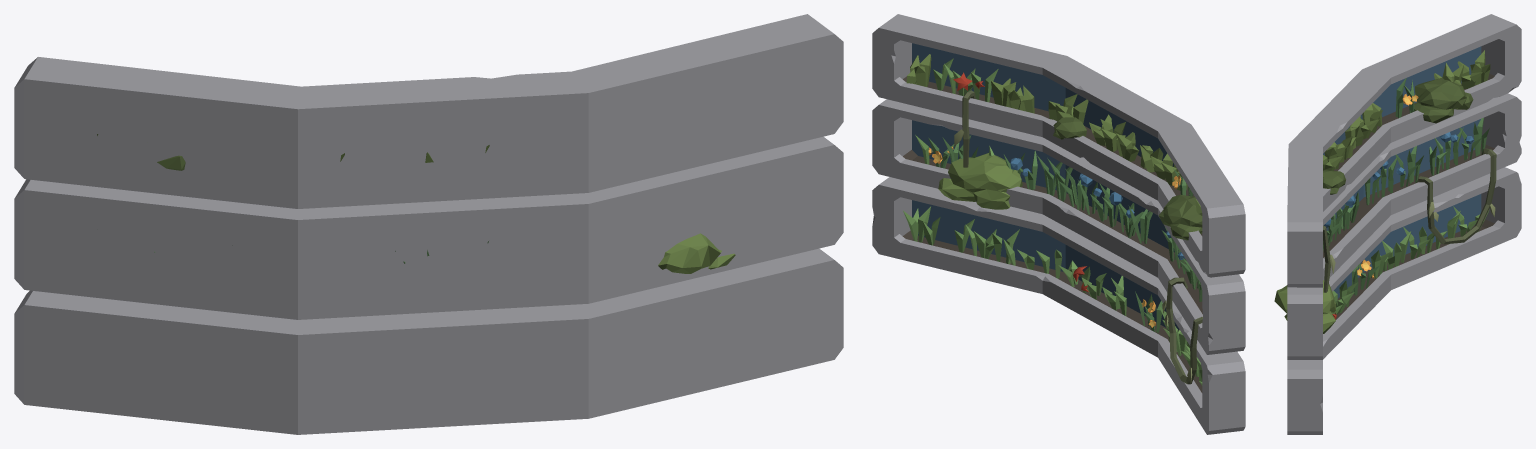
The model's file is SM_Bld_Hydroponics_WallPlantsLower_R_01.fbx.
3 views of the same model, side by side, from view 1: azimuth 30°, elevation 25°; view 2: azimuth 150°, elevation 25°; view 3: azimuth 270°, elevation 25° (orthographic). The views are drawn at different scales.
Visible parts, largest first — view 1: SM_Bld_Hydroponics_WallPlantsLower_R_01_LOD0; view 2: SM_Bld_Hydroponics_WallPlantsLower_R_01_LOD0; view 3: SM_Bld_Hydroponics_WallPlantsLower_R_01_LOD0.
Part boxes in pixels (left/top/right/bottom): SM_Bld_Hydroponics_WallPlantsLower_R_01_LOD0: left=14, top=14, right=843, bottom=434; SM_Bld_Hydroponics_WallPlantsLower_R_01_LOD0: left=872, top=14, right=1245, bottom=434; SM_Bld_Hydroponics_WallPlantsLower_R_01_LOD0: left=1274, top=14, right=1521, bottom=434.
Size of the model in its own units: 408 by 833 by 387.
Materials: 1 (1 with a texture image).
